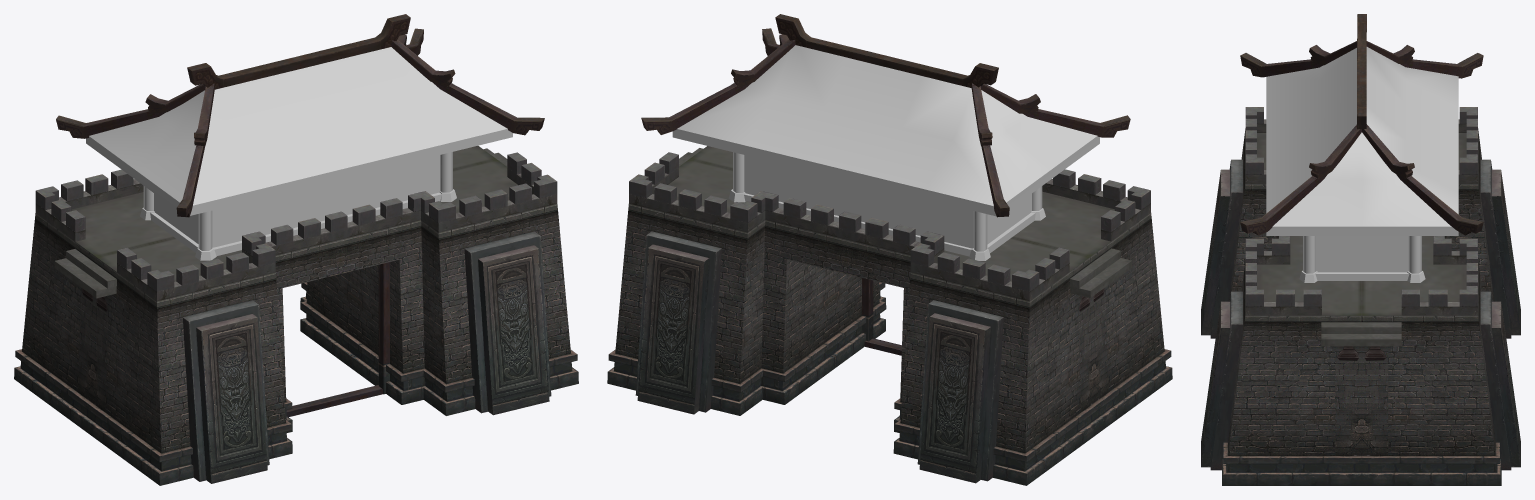
Rendered from s7_cityelement002.FBX.
3 views of the same model, side by side, from view 1: azimuth 30°, elevation 25°; view 2: azimuth 150°, elevation 25°; view 3: azimuth 270°, elevation 25° (orthographic). The views are drawn at different scales.
Parts seen in each view (by area): view 1: Object02cvcv, s7_cityroof; view 2: Object02cvcv, s7_cityroof; view 3: Object02cvcv, s7_cityroof.
Part boxes in pixels (<box>): Object02cvcv: <box>14,14,578,485</box>; s7_cityroof: <box>86,47,512,260</box>; Object02cvcv: <box>607,14,1172,485</box>; s7_cityroof: <box>672,45,1099,260</box>; Object02cvcv: <box>1201,14,1520,485</box>; s7_cityroof: <box>1266,47,1458,282</box>.
Bounding box in the file's own units: 32.38 × 23.57 × 21.07.
